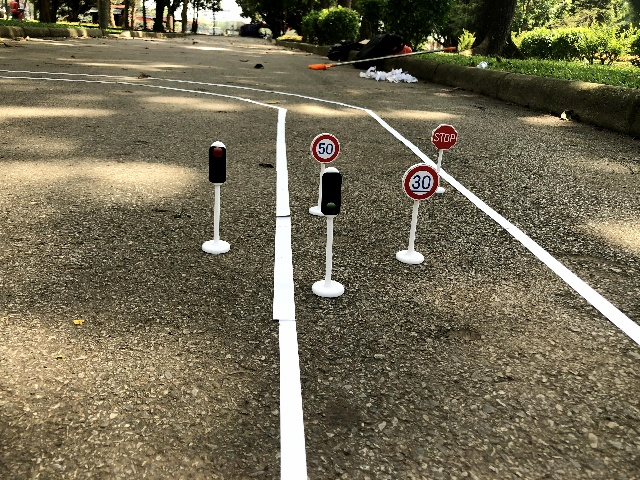Green Traffic Light: (316, 163, 349, 222)
Red Traffic Light: (202, 135, 233, 193)
Speed Limit 30: (397, 159, 444, 204)
Speed Limit 50: (307, 129, 345, 166)
Stop Sign: (426, 119, 463, 156)
